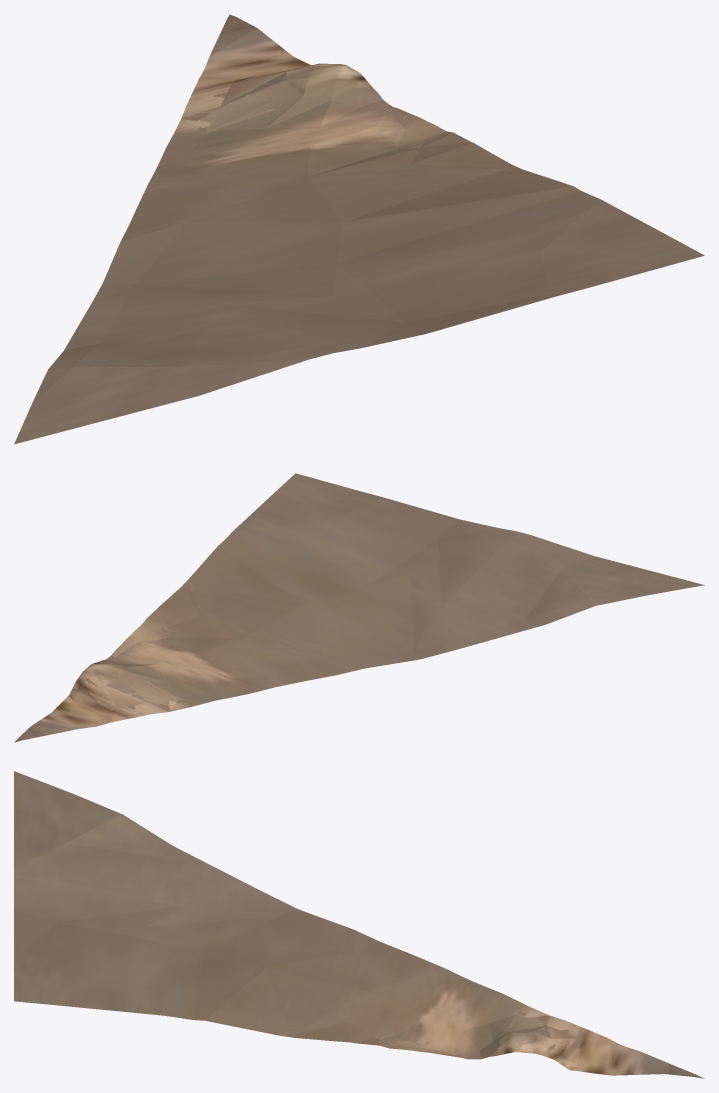
The picture shows the model from 3 angles, top to bottom: view 1: azimuth 30°, elevation 25°; view 2: azimuth 150°, elevation 25°; view 3: azimuth 270°, elevation 25°; orthographic projection. The views are drawn at different scales.
Bounding box in the file's own units: 1.59 × 0.2354 × 1.9.
Materials: 1 (1 with a texture image).
